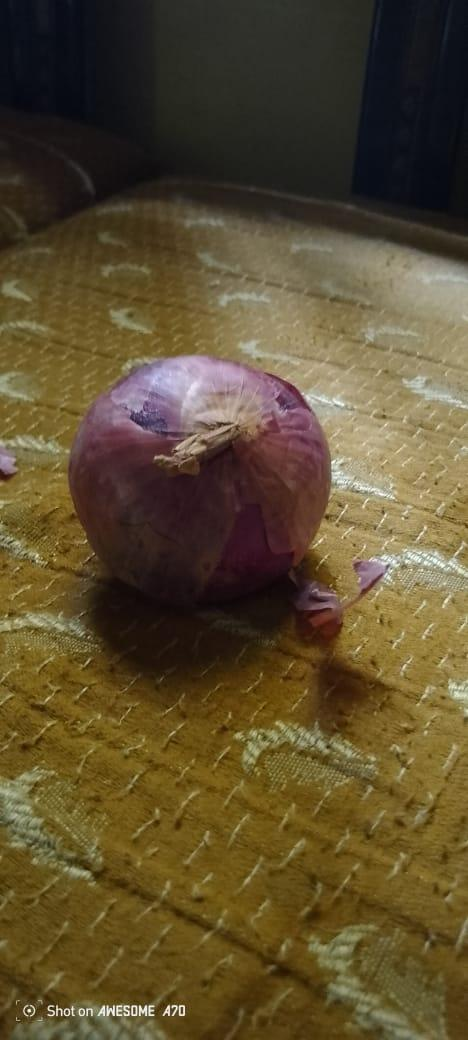non-mango: (67, 354, 336, 596)
